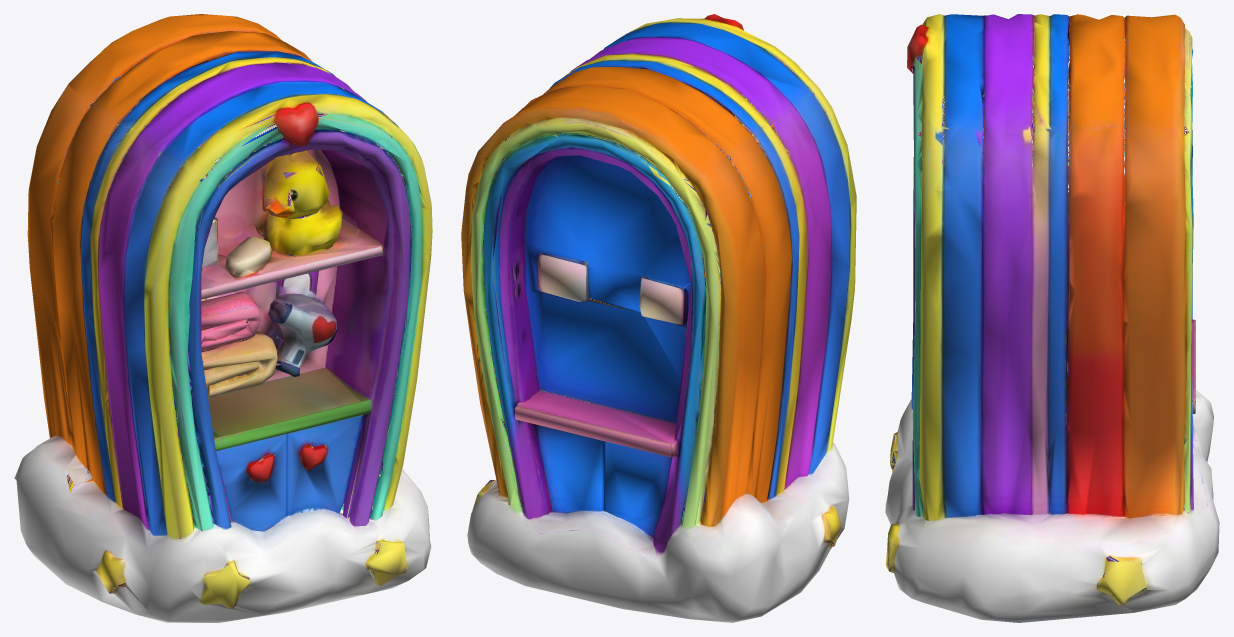
File: shelf.glb
3 views of the same model, side by side, from view 1: azimuth 30°, elevation 25°; view 2: azimuth 150°, elevation 25°; view 3: azimuth 270°, elevation 25° (orthographic). The views are drawn at different scales.
Size of the model in its own units: 1.37 by 2 by 1.18.
Materials: 1 (1 with a texture image).
